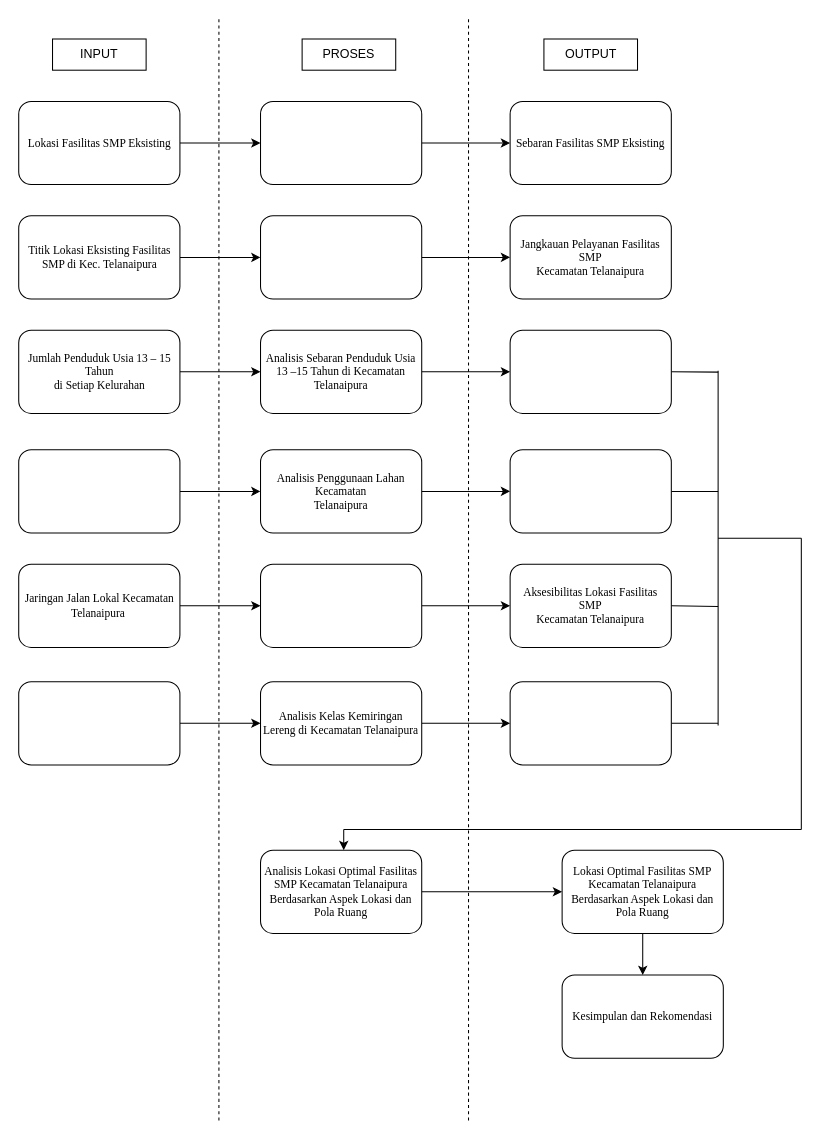
Some shapes in this 821 by 1140 pixel diagram are drawn without their labels. The shapes that lost their labels are listed below. From the top down, each one's centre as x and y in pixels, then its label:
At point (340, 142): "Identifikasi Wilayah Studi".
At point (340, 257): "Analisis Jangkauan Pelayanan Fasilitas SMP Kecamatan Telanaipura".
At point (590, 371): "Sebaran Penduduk Usia 13 – 15 Tahun di Kecamatan Telanaipura".
At point (99, 491): "Penggunaan Lahan di Kecamatan Telanaipura".
At point (590, 491): "Jenis Penggunaan Lahan Kecamatan Telanaipura".
At point (340, 605): "Analisis Aksesibilitas Lokasi Fasilitas SMP Kecamatan Telanaipura".
At point (99, 723): "Kemiringan Lereng di Kecamatan Telanaipura".
At point (590, 723): "Tingkat Kemiringan Lereng di Kecamatan Telanaipura".
